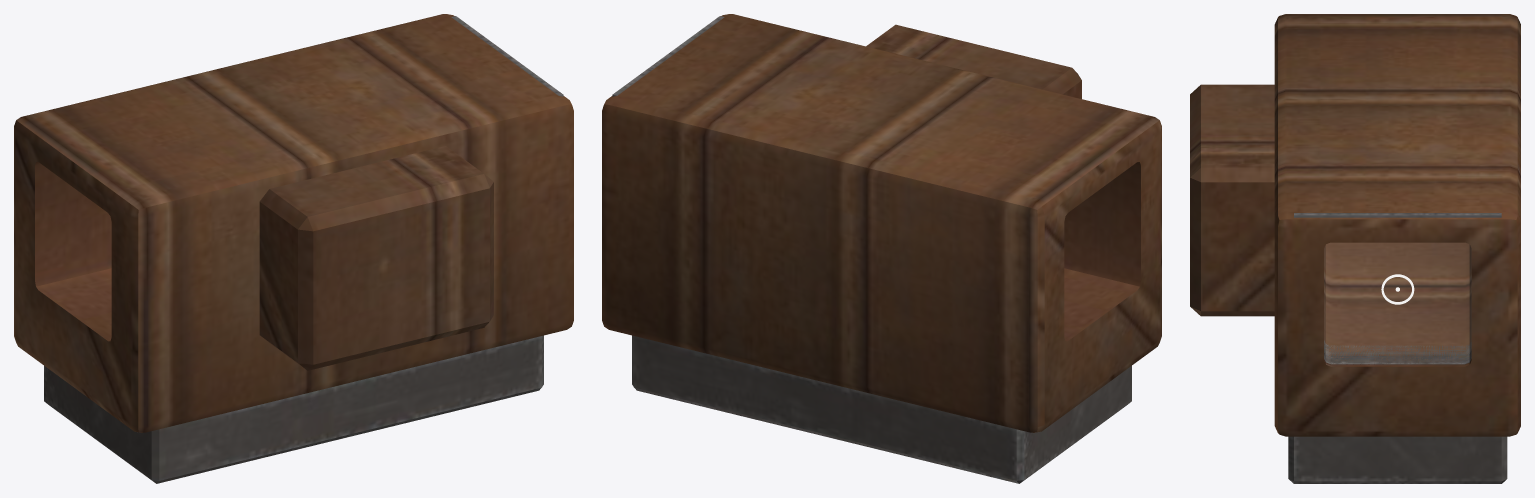
Rendered from tallow_holo.glb.
3 views of the same model, side by side, from view 1: azimuth 30°, elevation 25°; view 2: azimuth 150°, elevation 25°; view 3: azimuth 270°, elevation 25° (orthographic). The views are drawn at different scales.
Visible parts, largest first — view 1: tallow_holo; view 2: tallow_holo; view 3: tallow_holo.
Boxes of the visible parts, <box> form: tallow_holo: <box>14,14,573,483</box>; tallow_holo: <box>602,14,1161,483</box>; tallow_holo: <box>1190,14,1520,483</box>.
Bounding box in the file's own units: 0.09 × 0.0565 × 0.0605.
Materials: 3 (1 with a texture image).
